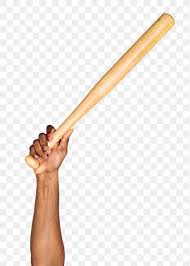baseball bat: (25, 12, 176, 170)
